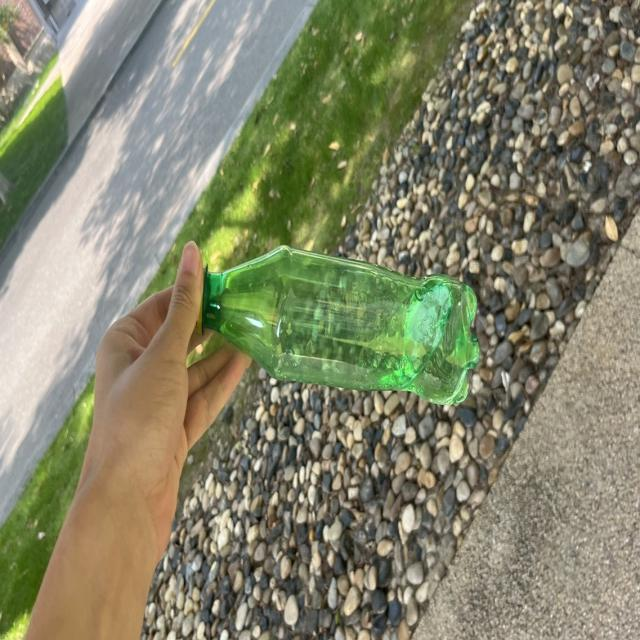low: (196, 246, 479, 403)
